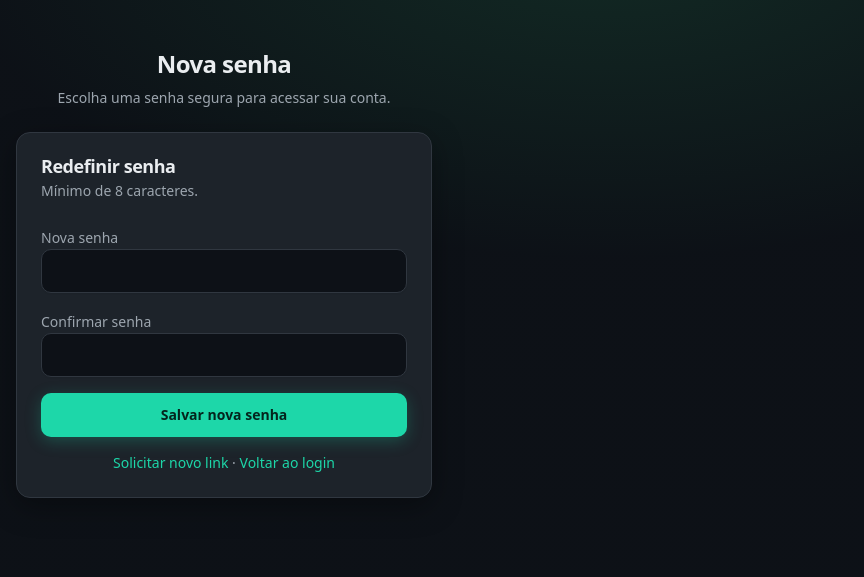
Test: ResetPasswordPage › shows error for invalid token
The image size is (864, 577).
Type "novaSenha123" into the password field labelled "Nova senha" at (224, 271), box [41, 249, 407, 293]
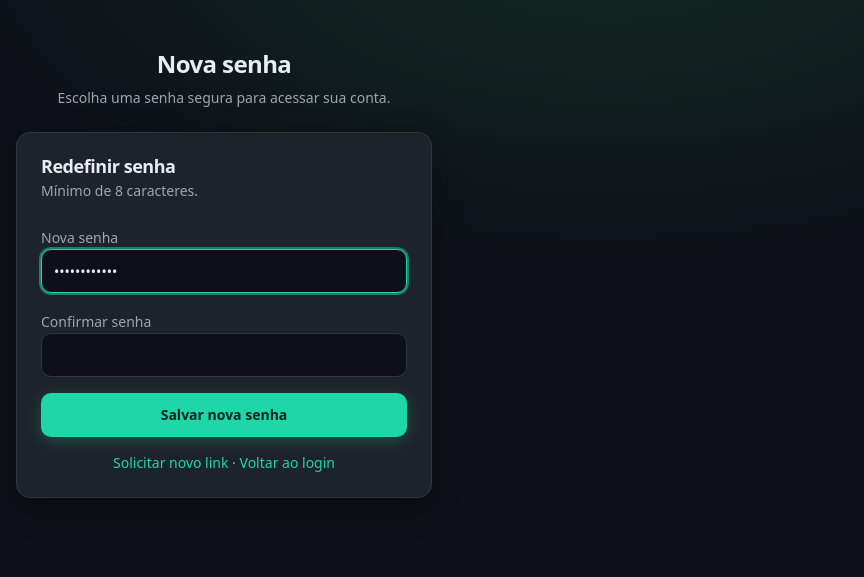
Type "novaSenha123" into the password field labelled "Confirmar senha" at (224, 355), box [41, 333, 407, 377]
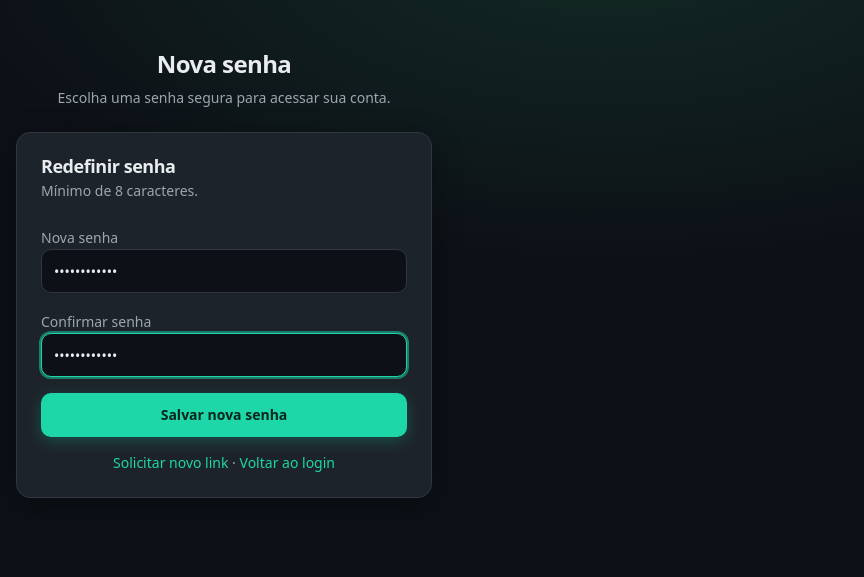
Click the button "Salvar nova senha" at (224, 415), box [41, 393, 407, 437]
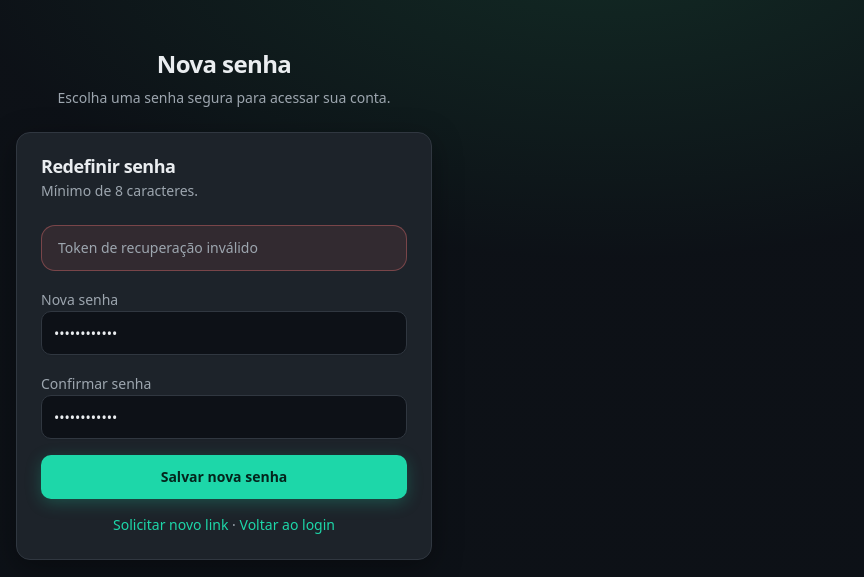
expect the text "Token de recuperação inválido" is shown: met, box [58, 238, 258, 257]
